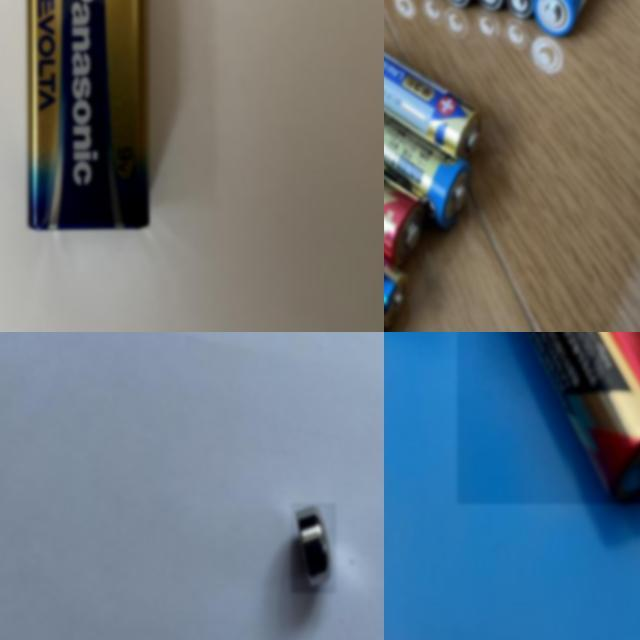9V: (25, 0, 150, 230)
